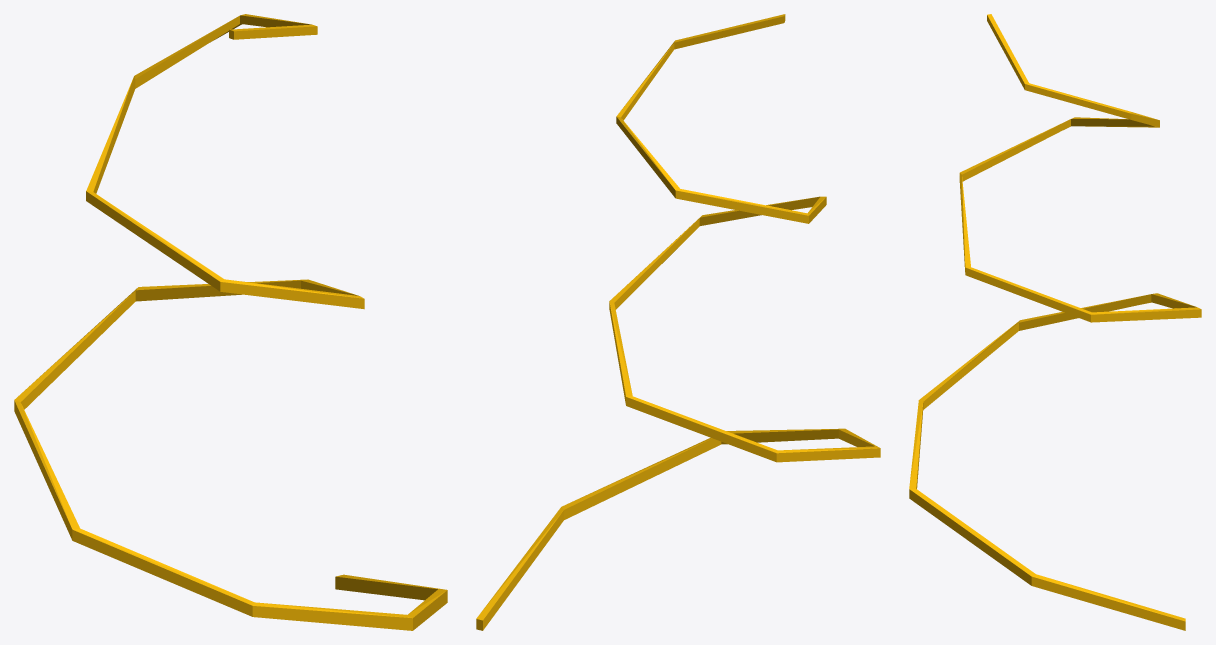
The model's file is Prop_Christmas_Tree_Tinsel_Gold_01.FBX.
3 renders of one model, left to right at view 1: azimuth 30°, elevation 25°; view 2: azimuth 150°, elevation 25°; view 3: azimuth 270°, elevation 25°, orthographic. The views are drawn at different scales.
Visible parts, largest first — view 1: Prop_Christmas_Tree_Tinsel_Gold_01; view 2: Prop_Christmas_Tree_Tinsel_Gold_01; view 3: Prop_Christmas_Tree_Tinsel_Gold_01.
Boxes of the visible parts, left/top/right/bottom form: Prop_Christmas_Tree_Tinsel_Gold_01: left=14, top=14, right=447, bottom=630; Prop_Christmas_Tree_Tinsel_Gold_01: left=476, top=14, right=880, bottom=630; Prop_Christmas_Tree_Tinsel_Gold_01: left=909, top=14, right=1201, bottom=630.
Size of the model in its own units: 1310 by 2332 by 1171.
